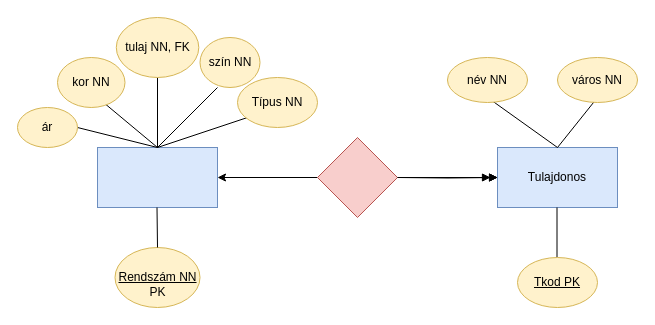
Some shapes in this 655 by 325 pixel diagram are drawn without their labels. The centre of each missing label's shape, as x and y in pixels:
A-T: [357,177]
Auto: [157,177]
